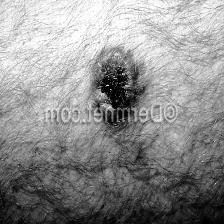Potentially Malignant Skin Tumors: (89, 46, 138, 123)
